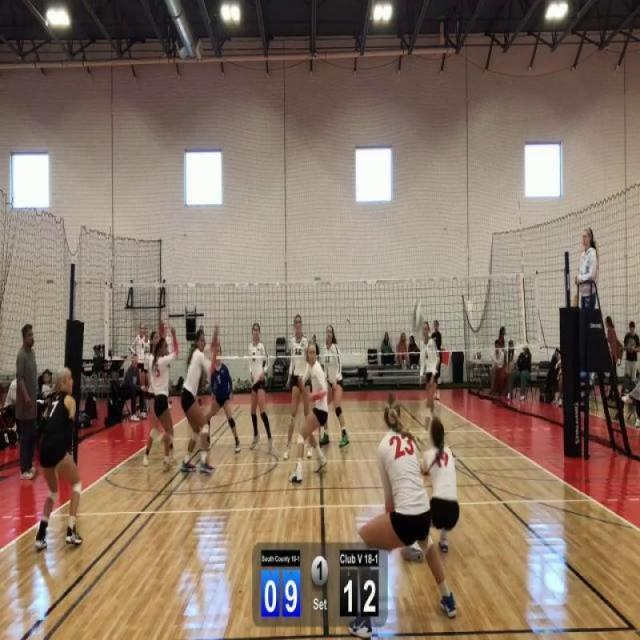volleyball: (408, 300, 426, 336)
